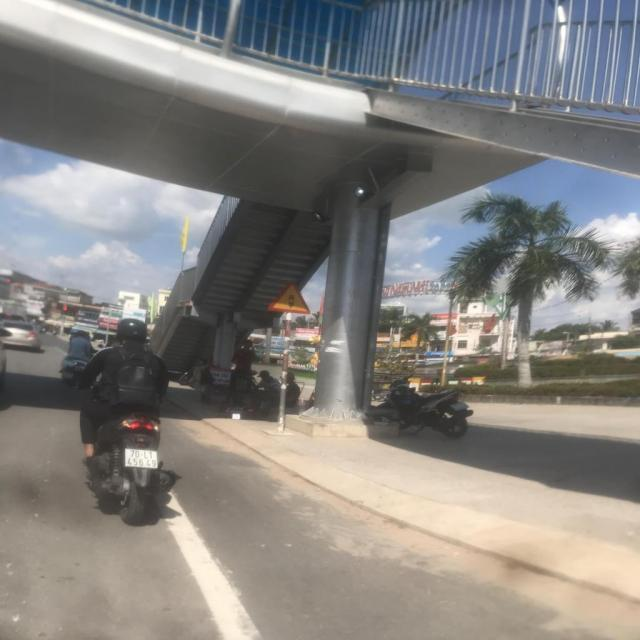209-giao-nhau-co-tin-hieu-den: (266, 280, 312, 316)
